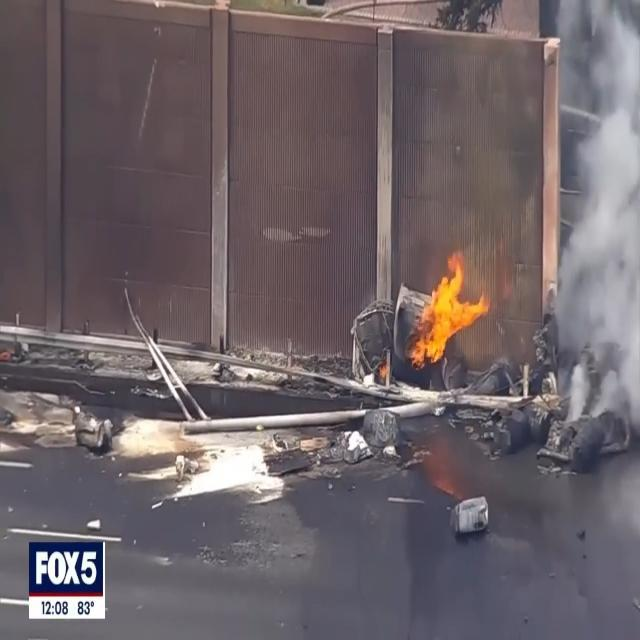fire: (410, 248, 488, 366)
